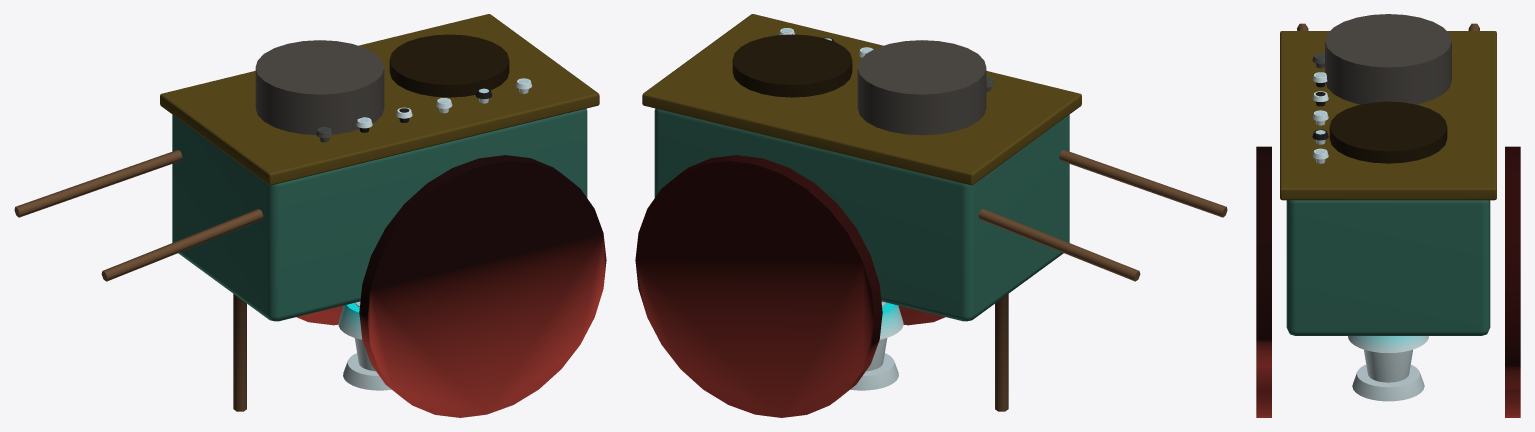
Rendered from barrow.glb.
3 renders of one model, left to right at view 1: azimuth 30°, elevation 25°; view 2: azimuth 150°, elevation 25°; view 3: azimuth 270°, elevation 25°, orthographic.
Visible parts, largest first — view 1: barrow.paint.4, barrow.paint.0, barrow.paint.1, barrow.metal.2, barrow.brass.3, barrow.plank.5, barrow.glass.6, anim-hero-foot, anim-hero-bowl; view 2: barrow.paint.4, barrow.paint.0, barrow.paint.1, barrow.metal.2, barrow.brass.3, barrow.plank.5, anim-hero-foot, anim-hero-bowl; view 3: barrow.paint.0, barrow.paint.1, barrow.metal.2, barrow.paint.4, barrow.brass.3, anim-hero-foot, anim-hero-stem, anim-hero-bowl, barrow.glass.6.
Boxes of the visible parts, x1=… form: barrow.paint.4: x1=296, y1=155, x2=606, y2=417; barrow.paint.0: x1=172, y1=108, x2=587, y2=321; barrow.paint.1: x1=160, y1=14, x2=599, y2=185; barrow.metal.2: x1=255, y1=40, x2=384, y2=134; barrow.brass.3: x1=389, y1=34, x2=509, y2=97; barrow.plank.5: x1=14, y1=150, x2=263, y2=411; barrow.glass.6: x1=316, y1=78, x2=531, y2=142; anim-hero-foot: x1=343, y1=353, x2=391, y2=390; anim-hero-bowl: x1=338, y1=303, x2=362, y2=339; barrow.paint.4: x1=635, y1=155, x2=945, y2=417; barrow.paint.0: x1=654, y1=108, x2=1069, y2=321; barrow.paint.1: x1=642, y1=14, x2=1081, y2=185; barrow.metal.2: x1=857, y1=40, x2=986, y2=135; barrow.brass.3: x1=732, y1=34, x2=852, y2=97; barrow.plank.5: x1=978, y1=150, x2=1227, y2=411; anim-hero-foot: x1=850, y1=353, x2=898, y2=390; anim-hero-bowl: x1=879, y1=303, x2=903, y2=339; barrow.paint.0: x1=1286, y1=200, x2=1490, y2=335; barrow.paint.1: x1=1280, y1=31, x2=1496, y2=200; barrow.metal.2: x1=1325, y1=14, x2=1451, y2=104; barrow.paint.4: x1=1256, y1=146, x2=1520, y2=417; barrow.brass.3: x1=1329, y1=101, x2=1447, y2=163; anim-hero-foot: x1=1352, y1=364, x2=1424, y2=401; anim-hero-stem: x1=1364, y1=349, x2=1412, y2=382; anim-hero-bowl: x1=1348, y1=336, x2=1428, y2=352; barrow.glass.6: x1=1312, y1=53, x2=1328, y2=163.
Bounding box in the file's own units: 2.43 × 1.54 × 1.17.
